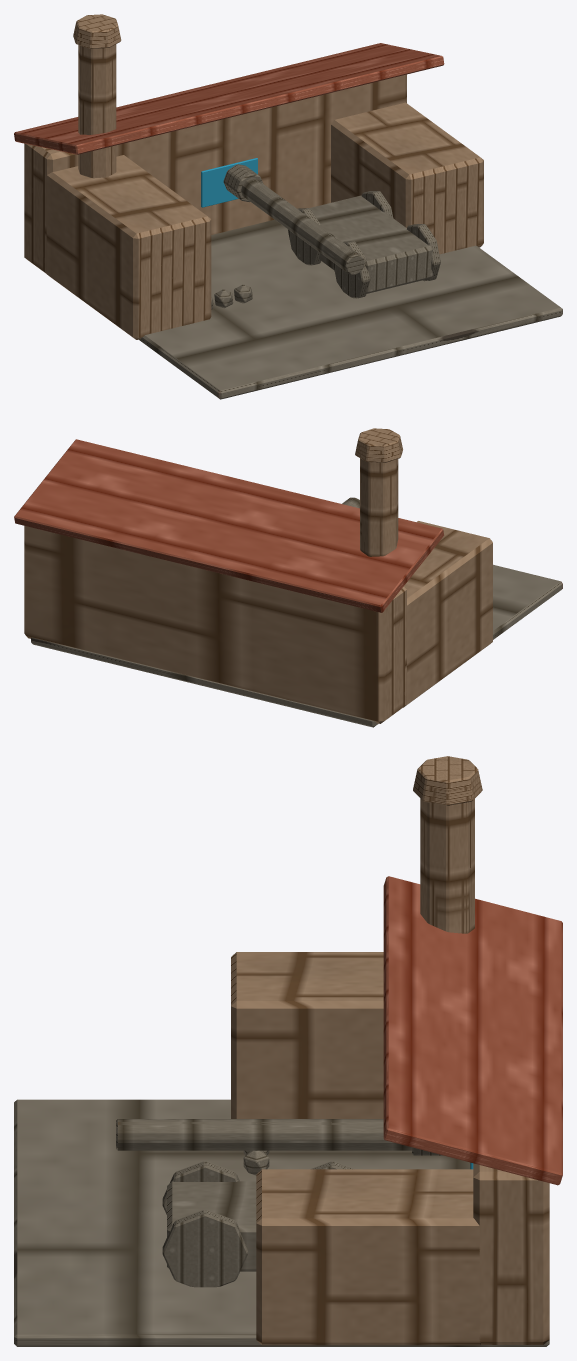
The model's file is edificio-b_016-e3-C4tF9X5_.glb.
3 renders of one model, top to bottom at view 1: azimuth 30°, elevation 25°; view 2: azimuth 150°, elevation 25°; view 3: azimuth 270°, elevation 25°, orthographic. The views are drawn at different scales.
Parts seen in each view (by area): view 1: envolvente_fabrica_asedio_e3, mecanismo_fabrica_asedio_e3, team_color; view 2: envolvente_fabrica_asedio_e3; view 3: envolvente_fabrica_asedio_e3, mecanismo_fabrica_asedio_e3.
Boxes of the visible parts, bbox=[...] form: envolvente_fabrica_asedio_e3: bbox=[14, 14, 562, 399]; mecanismo_fabrica_asedio_e3: bbox=[211, 164, 440, 309]; team_color: bbox=[201, 158, 257, 207]; envolvente_fabrica_asedio_e3: bbox=[14, 428, 562, 727]; envolvente_fabrica_asedio_e3: bbox=[14, 756, 562, 1346]; mecanismo_fabrica_asedio_e3: bbox=[116, 1119, 442, 1287].
Size of the model in its own units: 47 by 31.5 by 43.03.
2 materials, 1 textured.
